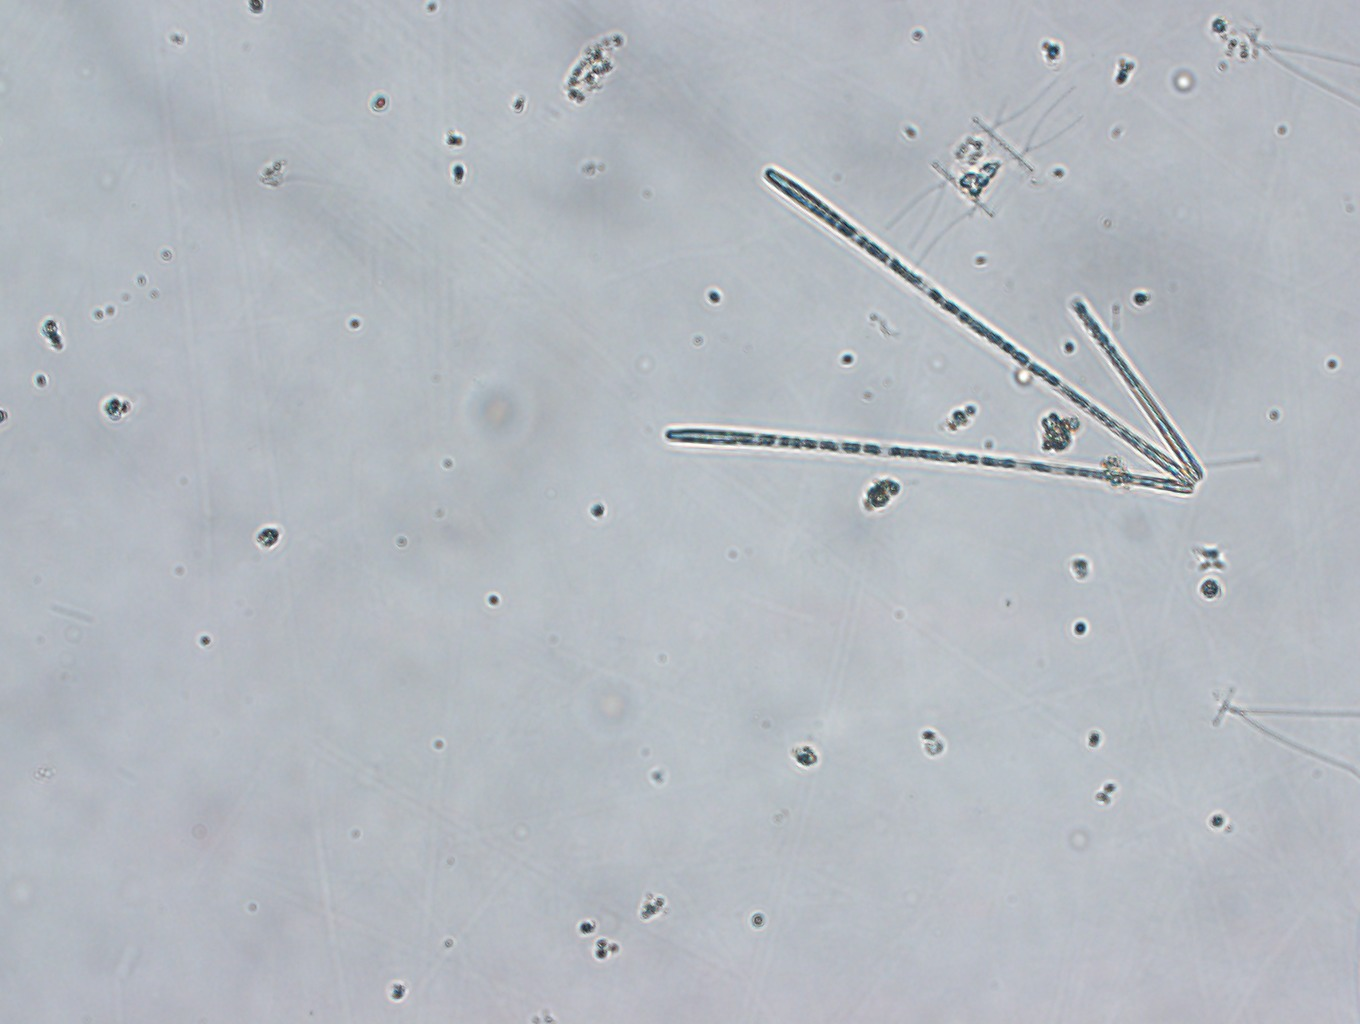chaetoceros: (886, 72, 1083, 269), (1207, 686, 1360, 778), (1226, 17, 1360, 106)
thalassionema frauenfeldii: (661, 158, 1211, 498)
